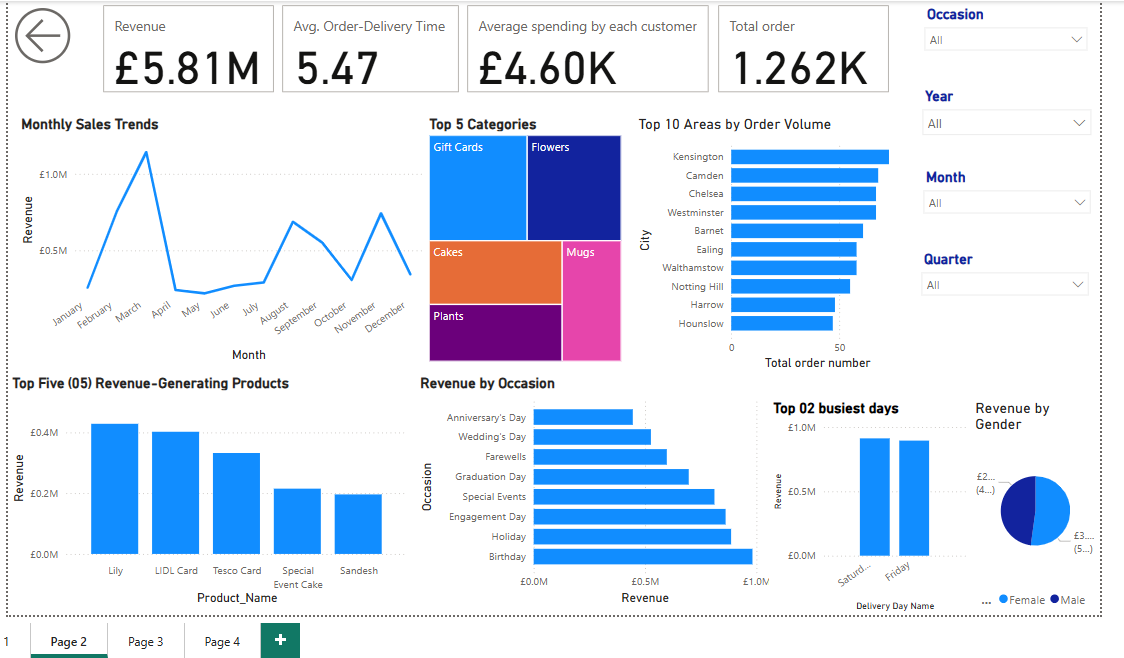

The page's visual inventory and layout, read from the dashboard file:
{"tool":"powerbi","page":{"name":"Page 2","canvas":[1280,720],"ordinal":1},"visuals":[{"type":"cardVisual","fields":{"Data":["Table.Revenue"]},"box":[106.2,0,210,112.5],"z":0},{"type":"cardVisual","fields":{"Data":["Table.Diff_order_delivery"]},"box":[316.2,0,217.5,112.5],"z":1000},{"type":"cardVisual","fields":{"Data":["Table.Avg_Revenue"]},"box":[533.8,0,293.8,112.5],"z":2000},{"type":"cardVisual","fields":{"Data":["Table.Order_ID"]},"box":[827.5,0,210,112.5],"z":3000},{"type":"slicer","fields":{"Values":["products.Occasion"]},"box":[1065,0,211.2,81.2],"z":4000},{"type":"lineChart","title":" Monthly Sales Trends","fields":{"Category":["LocalDateTable_1c952283-f69a-4542-b5b8-ab6ec2ddd77a.Month"],"Y":["Table.Revenue"]},"box":[10,133.8,480,293.8],"z":5000},{"type":"clusteredColumnChart","title":"Top Five (05) Revenue-Generating Products","fields":{"Y":["Table.Revenue"],"Category":["products.Product_Name"]},"box":[0,437.5,473.8,275],"z":6000},{"type":"treemap","title":" Top 5 Categories","fields":{"Group":["products.Category"],"Values":["Table.Revenue"]},"box":[488.8,133.8,235,293.8],"z":7000},{"type":"clusteredBarChart","title":"Top 10 Areas by Order Volume","fields":{"Category":["customers.City"],"Y":["Table.Order_Id_2"]},"box":[733.8,133.8,328.8,303.8],"z":8000},{"type":"clusteredBarChart","fields":{"Y":["Table.Revenue"],"Category":["products.Occasion"]},"box":[478.8,437.5,421.2,275],"z":9000},{"type":"clusteredColumnChart","title":"Top 02 busiest days","fields":{"Category":["orders.Delivery Day Name"],"Y":["Table.Revenue"]},"box":[892.5,466.2,236.2,253.8],"z":10000},{"type":"slicer","fields":{"Values":["LocalDateTable_1c952283-f69a-4542-b5b8-ab6ec2ddd77a.Year"]},"box":[1062.5,96.2,217.5,85],"z":11000},{"type":"slicer","fields":{"Values":["LocalDateTable_1c952283-f69a-4542-b5b8-ab6ec2ddd77a.Month"]},"box":[1063.8,191.2,216.2,88.8],"z":12000},{"type":"slicer","fields":{"Values":["LocalDateTable_1c952283-f69a-4542-b5b8-ab6ec2ddd77a.Quarter"]},"box":[1061.2,287.5,216.2,72.5],"z":13000},{"type":"pieChart","fields":{"Y":["Table.Revenue"],"Category":["customers.Gender"]},"box":[1128.8,466.2,151.2,253.8],"z":14000},{"type":"actionButton","box":[0,0,100,81.2],"z":15000}]}

Visuals, with their boxes on the page's 1280x720 design canvas (x1, y1, x2, y2). These are canvas units, not pixel positions in the 1124x658 screenshot, which may show the page scaled, cropped or inside an application window:
cardVisual - Table.Revenue: box(106, 0, 316, 112)
cardVisual - Table.Diff_order_delivery: box(316, 0, 534, 112)
cardVisual - Table.Avg_Revenue: box(534, 0, 828, 112)
cardVisual - Table.Order_ID: box(828, 0, 1038, 112)
slicer - products.Occasion: box(1065, 0, 1276, 81)
" Monthly Sales Trends" lineChart: box(10, 134, 490, 428)
"Top Five (05) Revenue-Generating Products" clusteredColumnChart: box(0, 438, 474, 712)
" Top 5 Categories" treemap: box(489, 134, 724, 428)
"Top 10 Areas by Order Volume" clusteredBarChart: box(734, 134, 1063, 438)
clusteredBarChart - Table.Revenue x products.Occasion: box(479, 438, 900, 712)
"Top 02 busiest days" clusteredColumnChart: box(892, 466, 1129, 720)
slicer - LocalDateTable_1c952283-f69a-4542-b5b8-ab6ec2ddd77a.Year: box(1062, 96, 1280, 181)
slicer - LocalDateTable_1c952283-f69a-4542-b5b8-ab6ec2ddd77a.Month: box(1064, 191, 1280, 280)
slicer - LocalDateTable_1c952283-f69a-4542-b5b8-ab6ec2ddd77a.Quarter: box(1061, 288, 1277, 360)
pieChart - Table.Revenue x customers.Gender: box(1129, 466, 1280, 720)
actionButton: box(0, 0, 100, 81)
